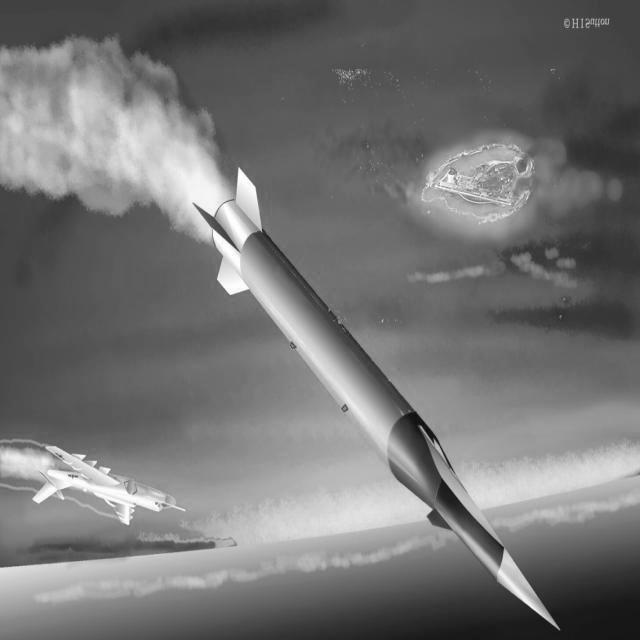missile: (190, 153, 570, 638)
